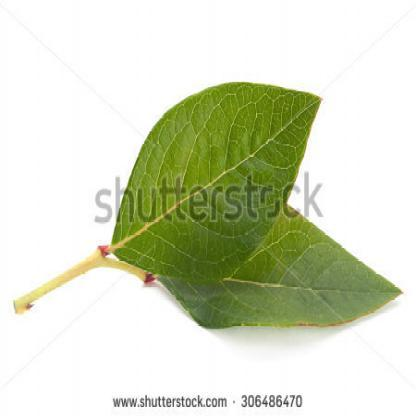Blueberry leaf: (112, 80, 415, 343)
